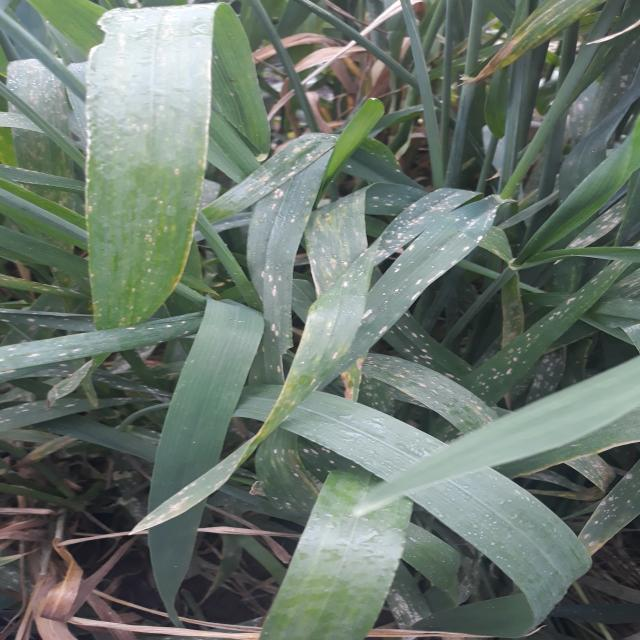powder_mildew: (206, 126, 480, 423), (69, 1, 219, 252), (479, 204, 640, 436), (0, 262, 158, 461), (517, 431, 638, 578), (0, 52, 102, 219), (223, 418, 361, 522), (449, 0, 640, 64), (360, 556, 466, 640), (117, 466, 219, 534), (563, 73, 640, 145), (585, 586, 640, 639), (0, 554, 29, 598)
